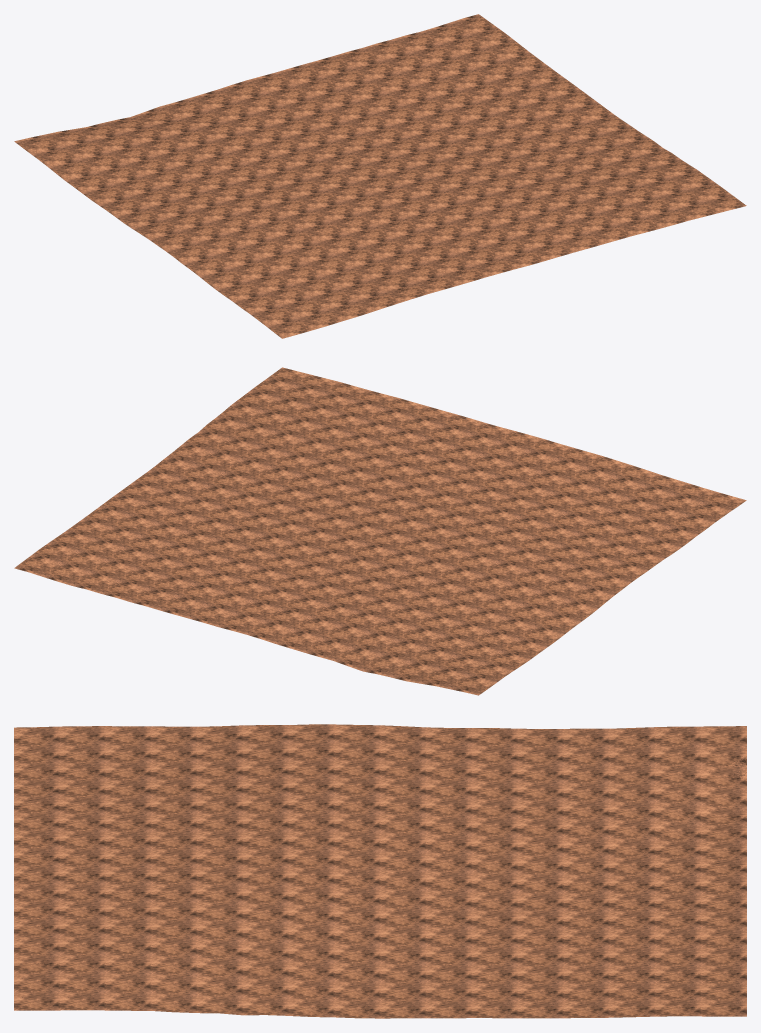
The model's file is terrain_09_10.dae.
The picture shows the model from 3 angles, top to bottom: view 1: azimuth 30°, elevation 25°; view 2: azimuth 150°, elevation 25°; view 3: azimuth 270°, elevation 25°; orthographic projection. The views are drawn at different scales.
Parts seen in each view (by area): view 1: terrain_09_10-node; view 2: terrain_09_10-node; view 3: terrain_09_10-node.
Part boxes in pixels (x1,y1,x2,y2): terrain_09_10-node: [14, 14, 746, 338]; terrain_09_10-node: [14, 367, 746, 695]; terrain_09_10-node: [14, 724, 746, 1018].
Bounding box in the file's own units: 128 × 128 × 6.
Materials: 1 (1 with a texture image).
